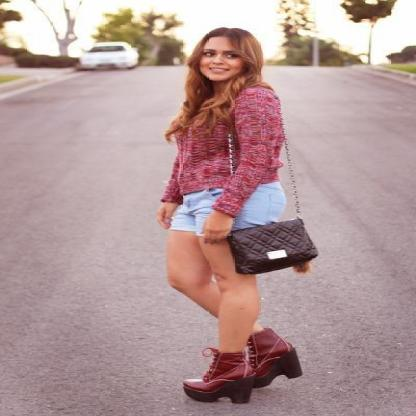bag: (222, 216, 317, 274)
shirt: (162, 75, 286, 218)
shoe: (183, 328, 302, 403)
shorts: (171, 182, 285, 235)
